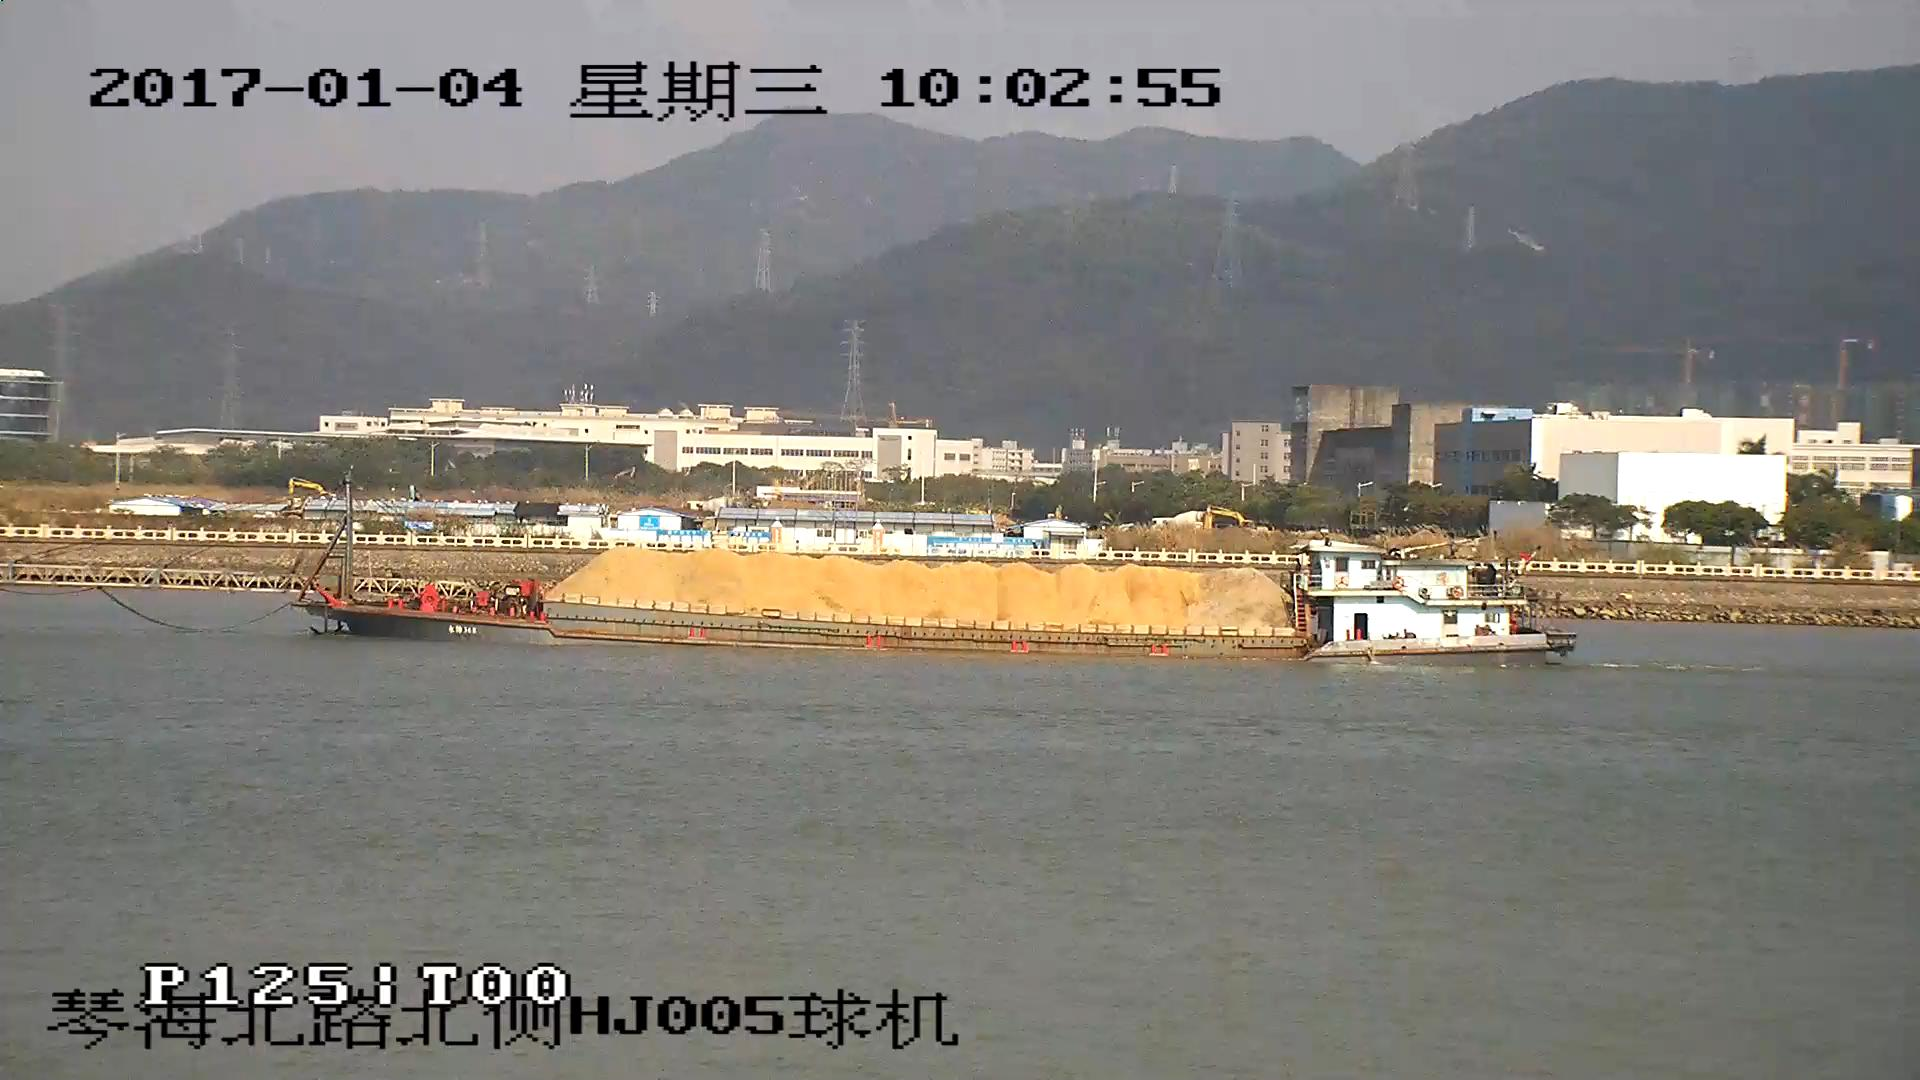ore carrier: (1, 482, 1580, 665)
